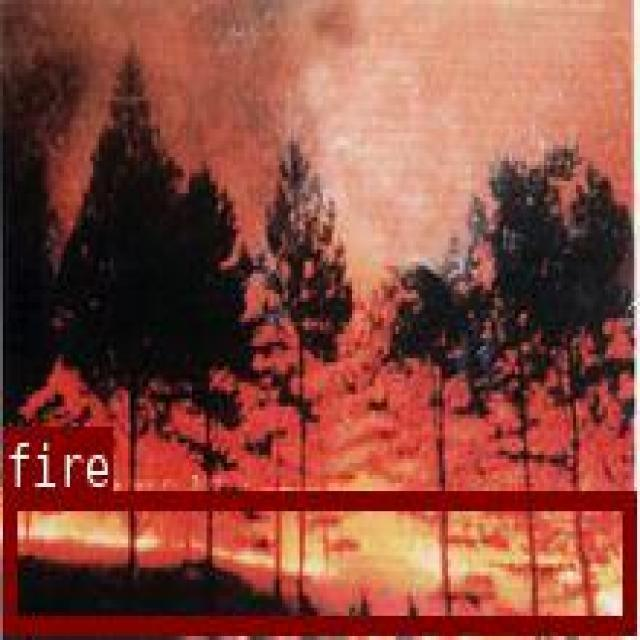fire: (0, 489, 633, 630)
